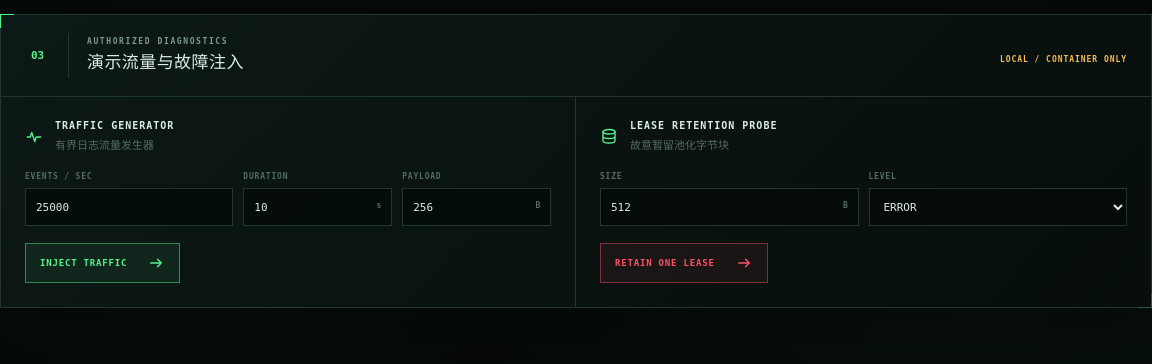
Test: DemoControls › starts bounded traffic with the configured values
The image size is (1152, 364).
Click the button "INJECT TRAFFIC": (103, 263) [25, 243, 180, 283]
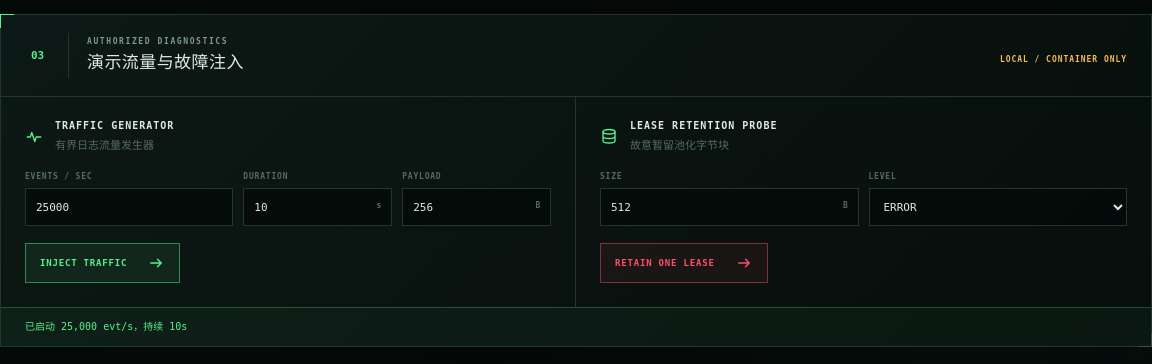
Now the message shows "25,000 evt/s", box [25, 321, 187, 332]
